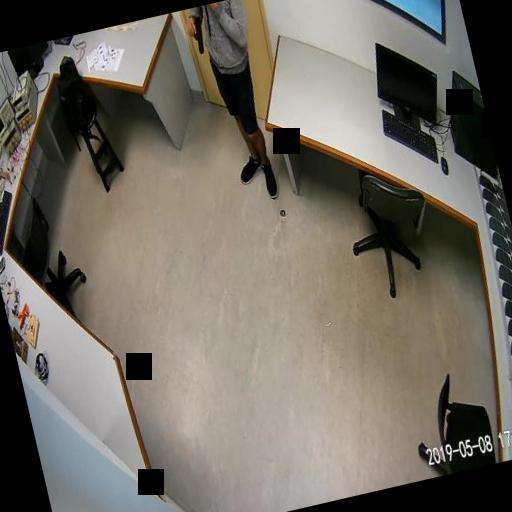Handgun: (182, 15, 206, 54)
